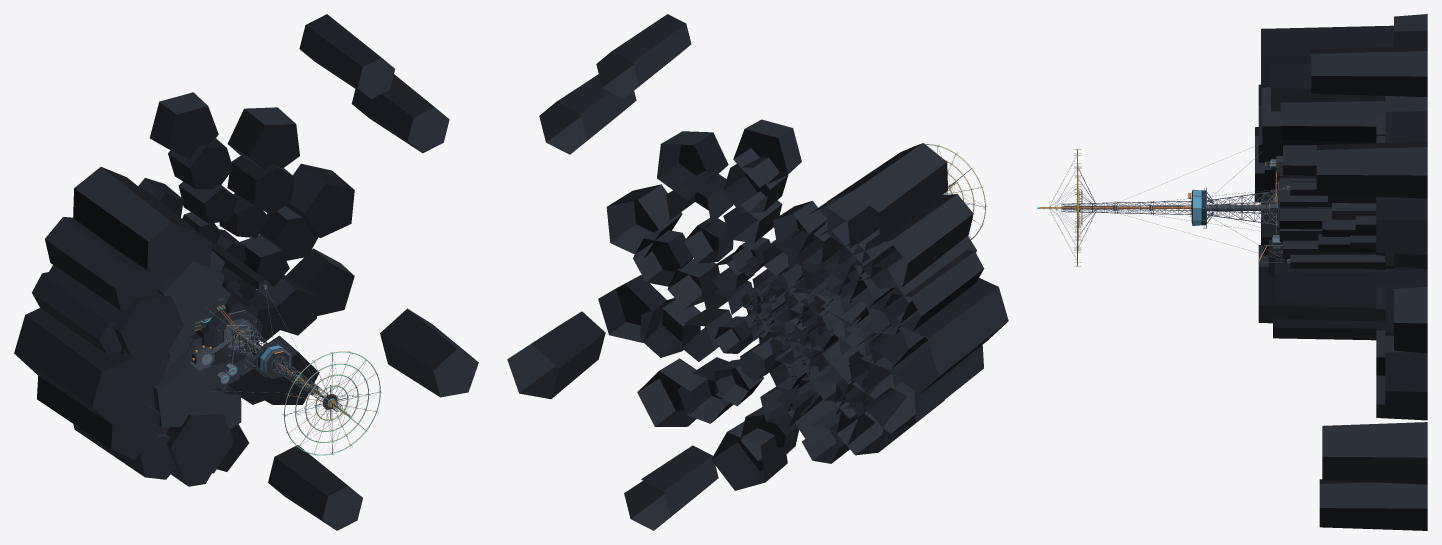
Rendered from gor9_tower.obj.
3 renders of one model, left to right at view 1: azimuth 30°, elevation 25°; view 2: azimuth 150°, elevation 25°; view 3: azimuth 270°, elevation 25°, orthographic. The views are drawn at different scales.
Bounding box in the file's own units: 187 × 198 × 141.
